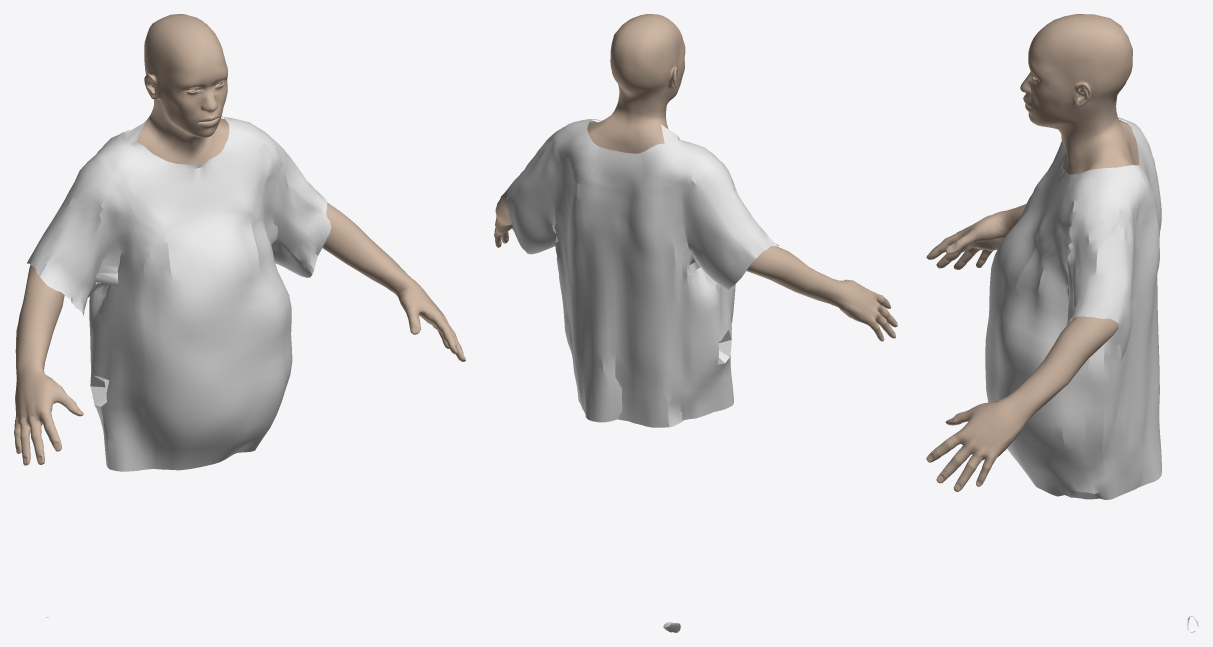
3 renders of one model, left to right at view 1: azimuth 30°, elevation 25°; view 2: azimuth 150°, elevation 25°; view 3: azimuth 270°, elevation 25°, orthographic. The views are drawn at different scales.
Visible parts, largest first — view 1: Cube, Base; view 2: Cube, Base; view 3: Cube, Base.
Boxes of the visible parts, <box> form: Cube: <box>27,116,331,620</box>; Base: <box>14,14,465,465</box>; Cube: <box>505,119,779,632</box>; Base: <box>494,14,897,341</box>; Cube: <box>985,117,1198,632</box>; Base: <box>926,14,1139,491</box>.
Bounding box in the file's own units: 9.07 × 12.4 × 4.66.
